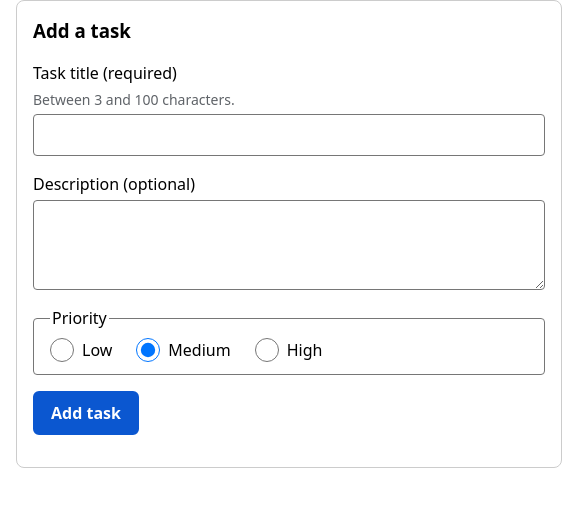
AddTaskForm validation › rejects a 2 character title: no task is added, the field is invalid, focused and described by the error
This screenshot has width=579, height=515.
Type "ab" into the field labelled "Task title (required)". click: [289, 135]
box: [33,114,545,156]
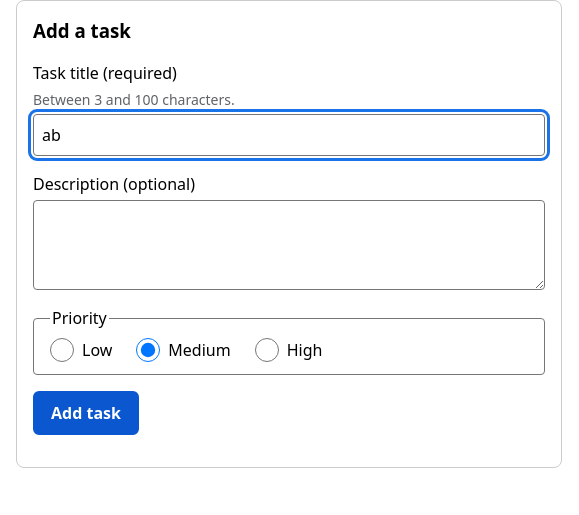
Click the button "Add task". click: [86, 413]
box: [33,391,139,435]
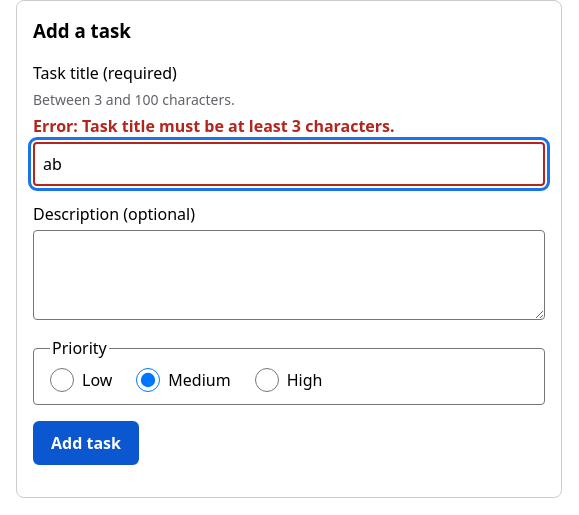
Check: the text "Error: Task title must be at least 3 characters." is shown, box [33,115,395,137]
